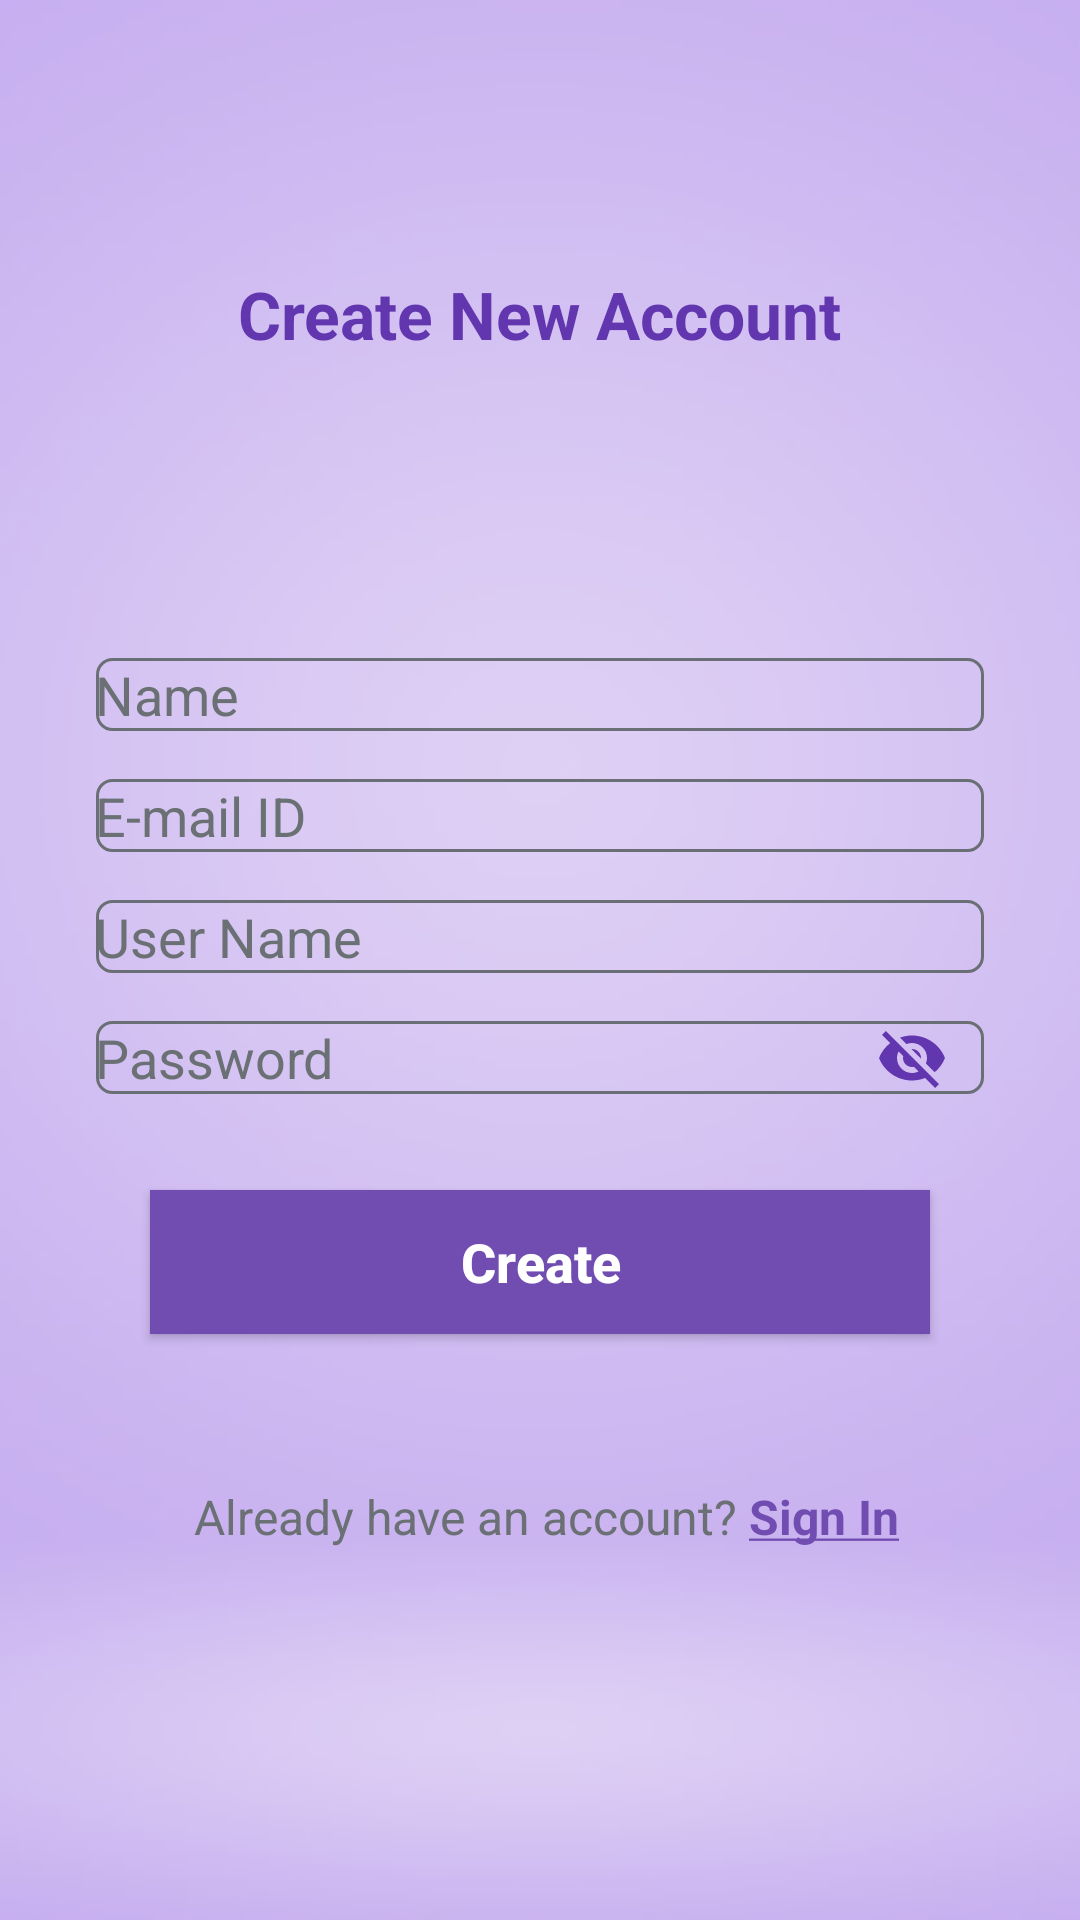

Icons on this 1080×1920 Android screen, each with the point to tap as point (x, y):
visibility off: point (912, 1059)
